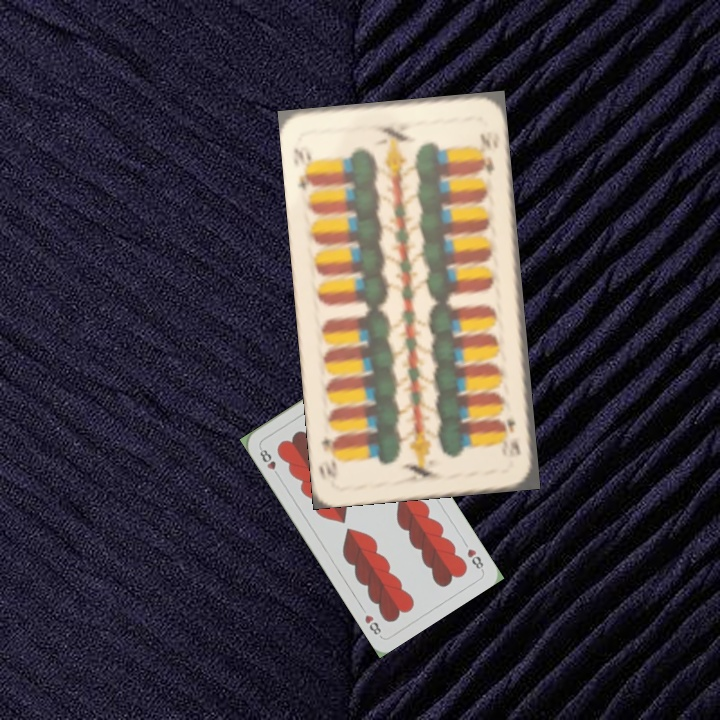E10: (289, 142, 318, 193), (499, 415, 524, 458)
H8: (255, 443, 282, 480), (463, 544, 486, 573)
